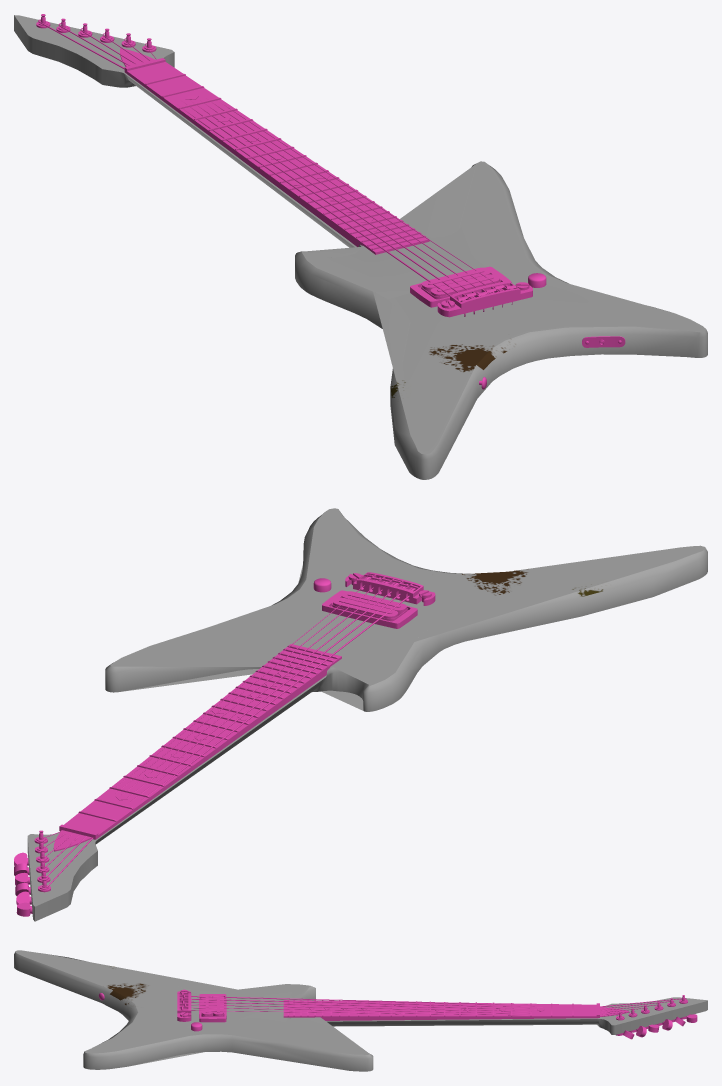
Rendered from _huckgitara.fbx.
3 views of the same model, one above another, from view 1: azimuth 30°, elevation 25°; view 2: azimuth 150°, elevation 25°; view 3: azimuth 270°, elevation 25° (orthographic). The views are drawn at different scales.
Visible parts, largest first — view 1: Body_low.001, Shield_low.001, Bridge_low.001, Pickup2_low.001; view 2: Body_low.001, Shield_low.001, Pickup2_low.001, Bridge_low.001, Tuner3_low.001; view 3: Body_low.001, Shield_low.001, Pickup2_low.001, Tuner3_low.001, Bridge_low.001, Tuner_low.001.
Boxes of the visible parts, x1,y1,x2,y2 form: Body_low.001: [14, 15, 707, 479]; Shield_low.001: [38, 19, 512, 316]; Bridge_low.001: [437, 281, 532, 317]; Pickup2_low.001: [410, 266, 511, 307]; Body_low.001: [27, 508, 707, 921]; Shield_low.001: [40, 585, 409, 887]; Pickup2_low.001: [322, 590, 417, 628]; Bridge_low.001: [345, 572, 435, 605]; Tuner3_low.001: [14, 852, 32, 916]; Body_low.001: [14, 950, 707, 1071]; Shield_low.001: [191, 996, 686, 1020]; Pickup2_low.001: [199, 994, 226, 1022]; Tuner3_low.001: [623, 1014, 697, 1039]; Bridge_low.001: [177, 989, 191, 1021]; Tuner_low.001: [616, 995, 687, 1020].
Size of the model in its own units: 177 by 23.85 by 486.
